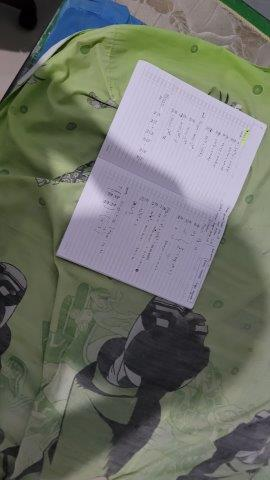kertas: (59, 59, 268, 311)
